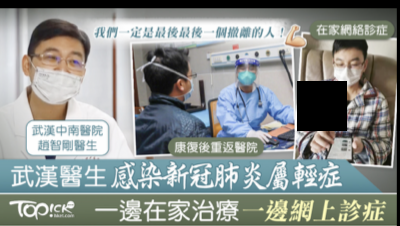with_mask: (28, 43, 85, 104), (332, 55, 363, 88), (182, 70, 196, 101), (237, 64, 257, 85)
